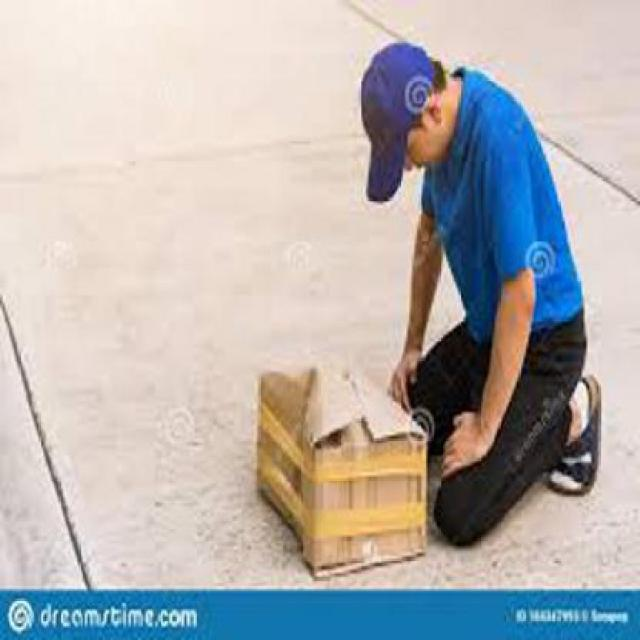defect: (249, 355, 437, 588)
